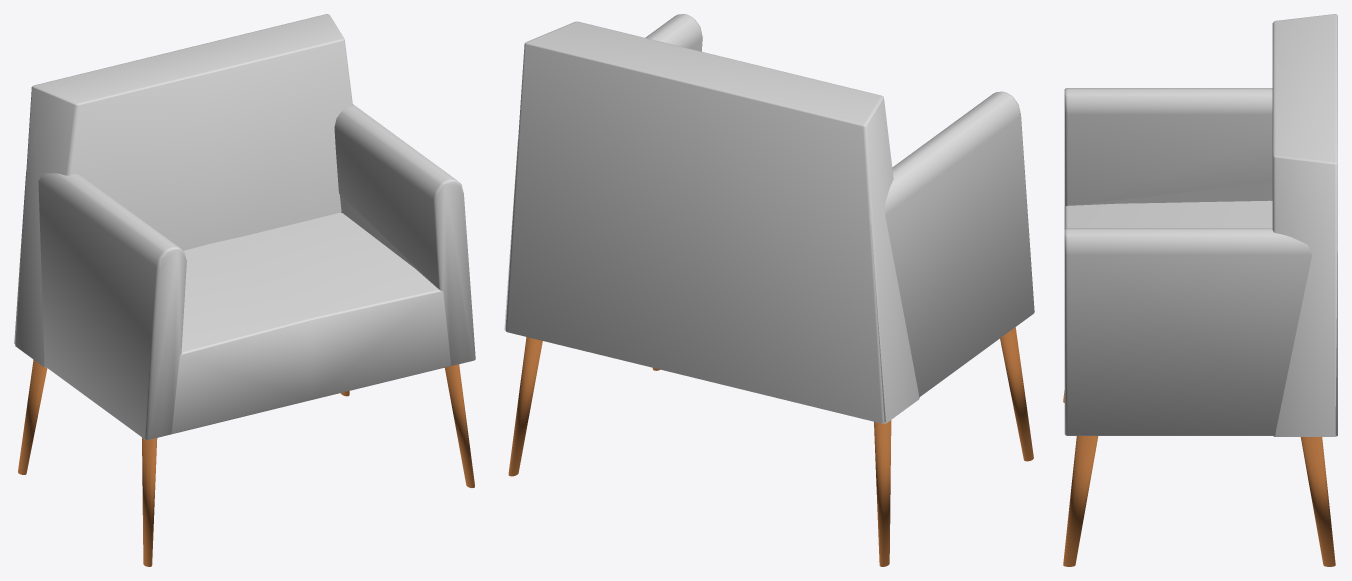
Rendered from sofachair.fbx.
3 views of the same model, side by side, from view 1: azimuth 30°, elevation 25°; view 2: azimuth 150°, elevation 25°; view 3: azimuth 270°, elevation 25° (orthographic). The views are drawn at different scales.
Visible parts, largest first — view 1: Sofa Chair; view 2: Sofa Chair; view 3: Sofa Chair.
Part boxes in pixels (box(x1,y1,x2,y2)): Sofa Chair: box(14, 14, 475, 566); Sofa Chair: box(504, 14, 1034, 566); Sofa Chair: box(1063, 14, 1337, 566).
Bounding box in the file's own units: 3.31 × 3.64 × 2.29.
